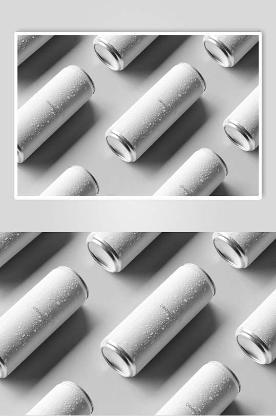Can: (101, 263, 216, 377), (0, 266, 89, 378), (106, 63, 206, 162), (17, 65, 95, 163), (156, 361, 240, 416), (154, 148, 228, 196), (87, 232, 160, 272), (223, 86, 259, 151), (41, 165, 99, 196), (203, 35, 258, 67)
